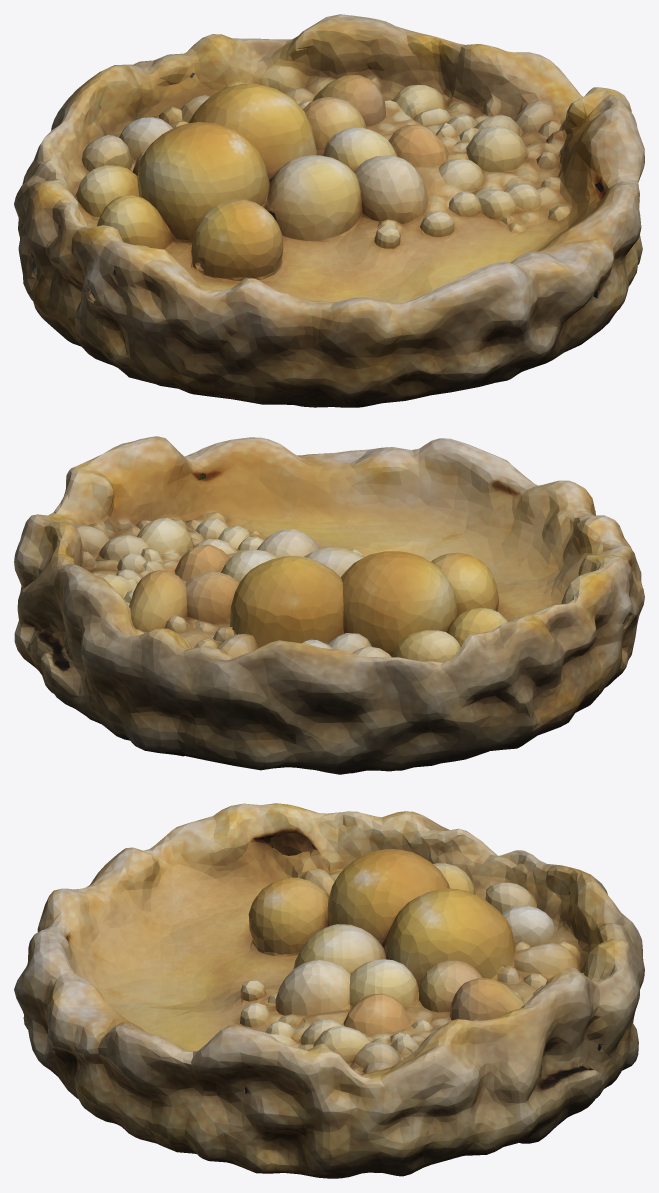
The picture shows the model from 3 angles, top to bottom: view 1: azimuth 30°, elevation 25°; view 2: azimuth 150°, elevation 25°; view 3: azimuth 270°, elevation 25°; orthographic projection. The views are drawn at different scales.
Visible parts, largest first — view 1: world; view 2: world; view 3: world.
Boxes of the visible parts, box(x1,y1,x2,y2) form: world: box(14, 14, 644, 407); world: box(14, 436, 644, 774); world: box(14, 803, 644, 1178).
Size of the model in its own units: 0.9467 by 0.2581 by 0.9443.
Materials: 1 (1 with a texture image).
